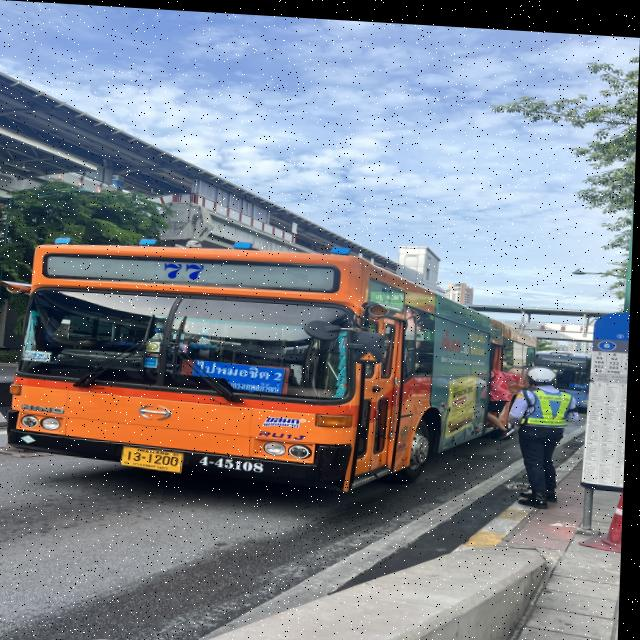BMTA-bus: (11, 243, 538, 489)
Bus Line Number: (155, 253, 212, 283)
Bus Side Number: (197, 450, 270, 473)
Destination Sign: (198, 358, 288, 392)
